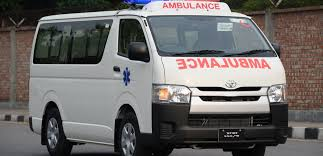ambulance: (28, 1, 292, 155)
